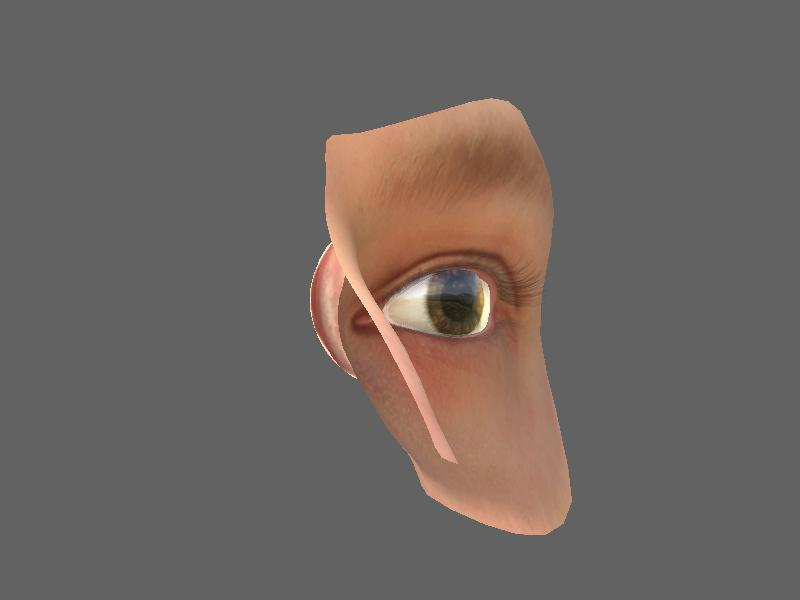iris: (430, 269, 489, 339)
